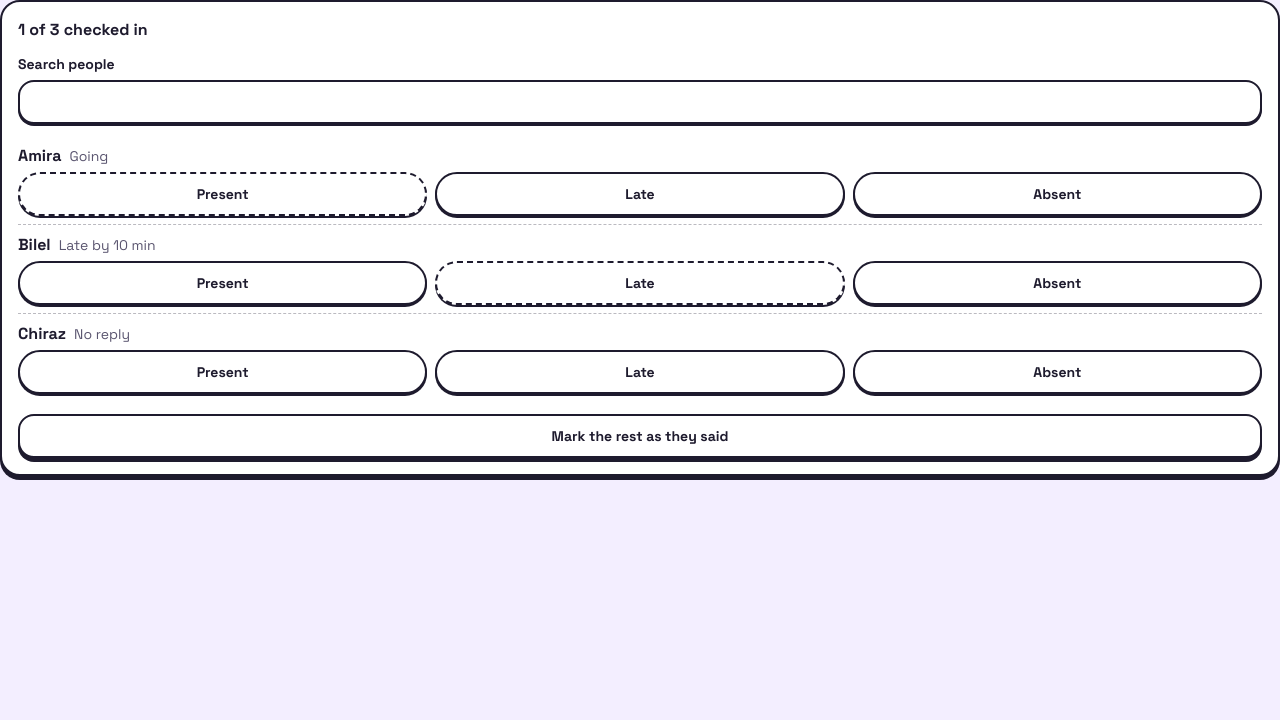
Scenario: CheckInList › puts the chip back and says so when saving fails
expect the link "Amira" is shown: met, box x1=18 y1=144 x2=62 y2=168
Step 1. Click the 2nd button "Late" → (640, 283), box x1=435 y1=261 x2=845 y2=305
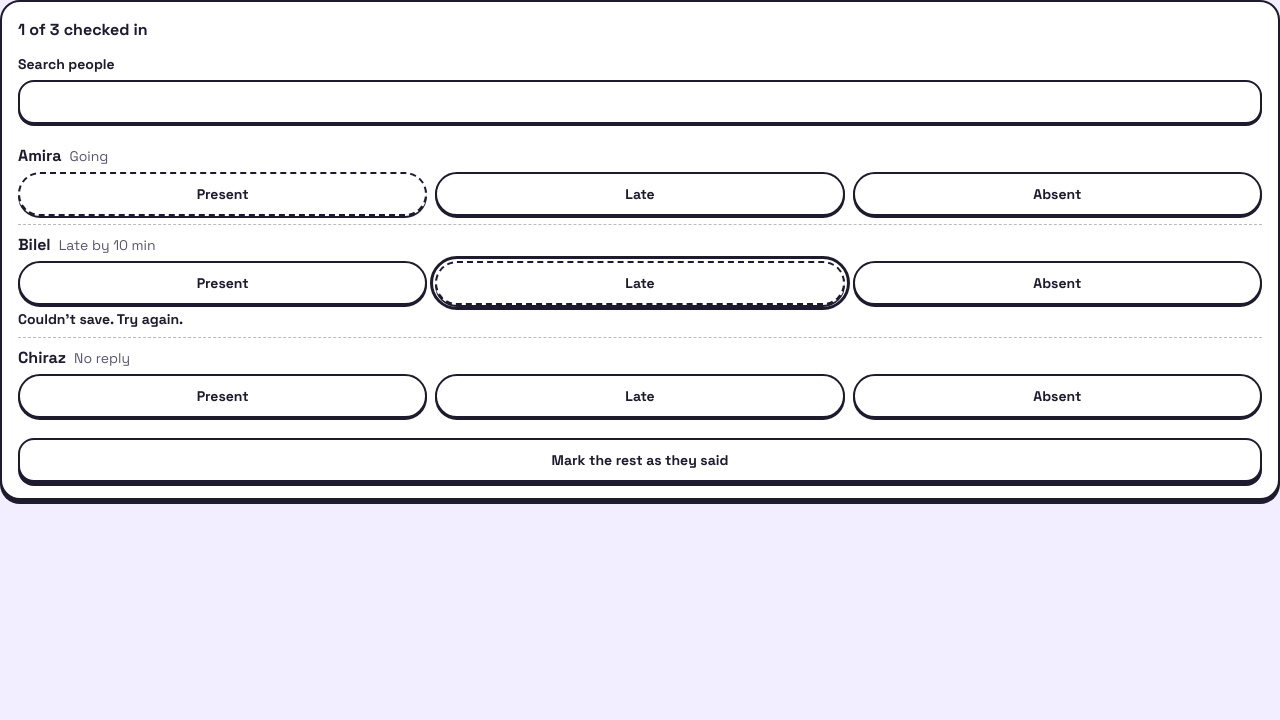
expect the text "Couldn't save. Try again." is shown: met, box x1=18 y1=310 x2=183 y2=328
